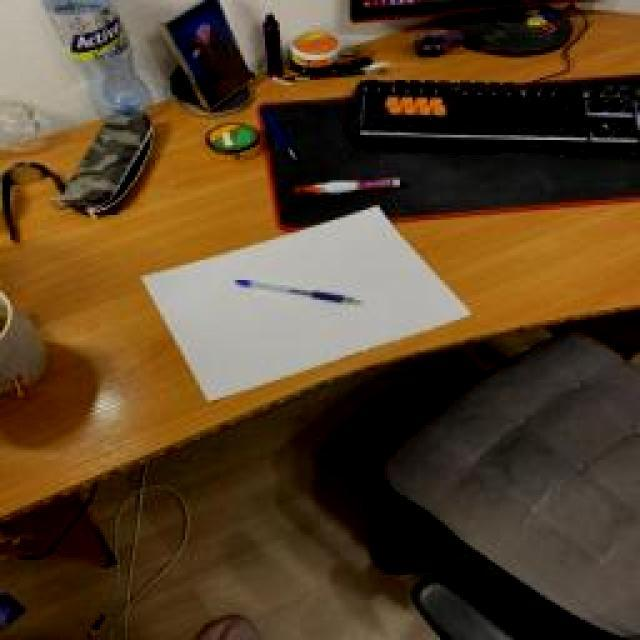pen: (238, 278, 366, 308)
